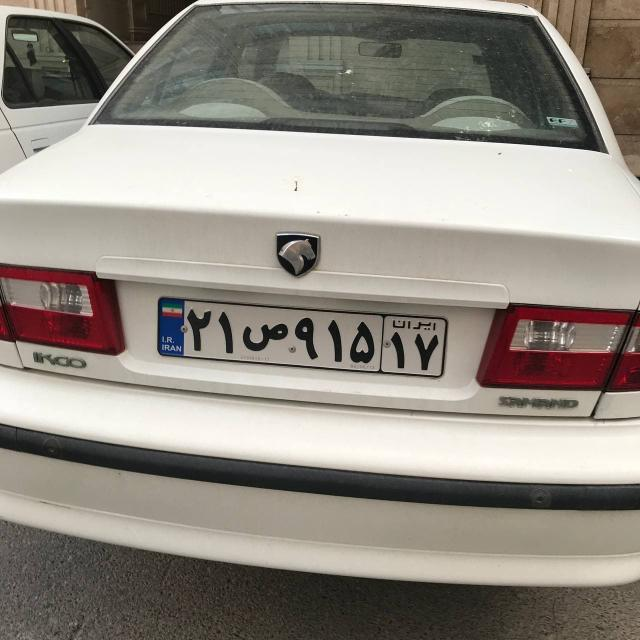Plates: (153, 296, 447, 377)
